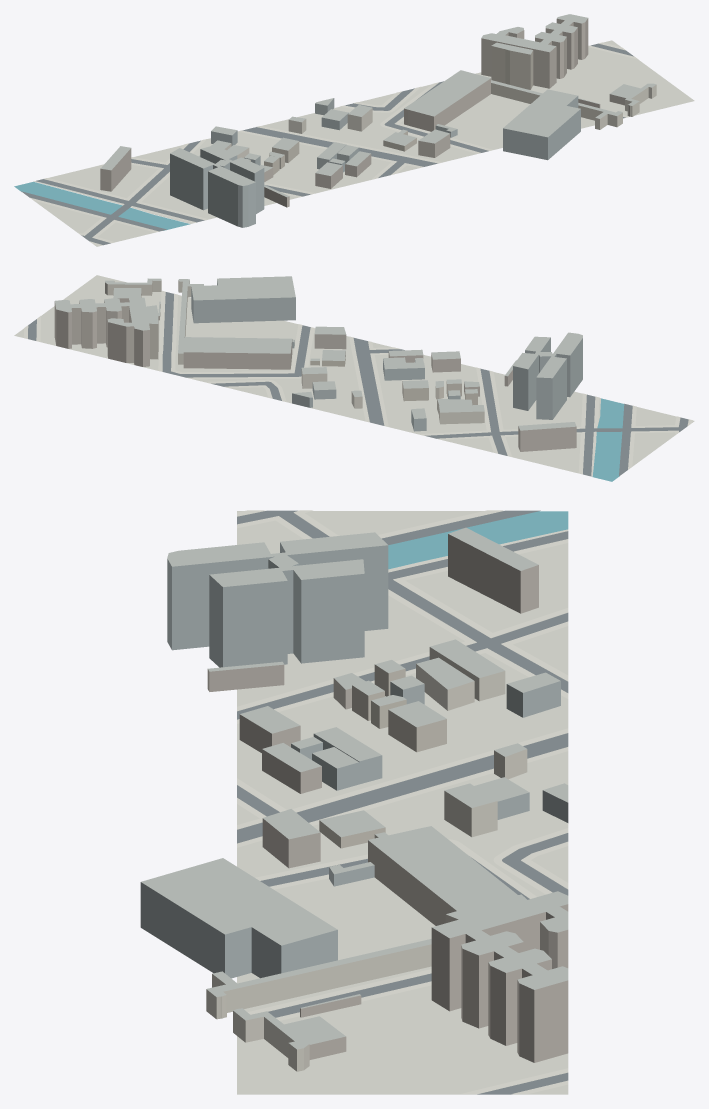
3 renders of one model, top to bottom at view 1: azimuth 30°, elevation 25°; view 2: azimuth 150°, elevation 25°; view 3: azimuth 270°, elevation 25°, orthographic. The views are drawn at different scales.
Visible parts, largest first — view 1: city; view 2: city; view 3: city.
Boxes of the visible parts, bbox=[...] form: city: bbox=[14, 14, 694, 246]; city: bbox=[14, 275, 694, 481]; city: bbox=[140, 510, 568, 1094].
Bounding box in the file's own units: 500 × 33.58 × 155.
